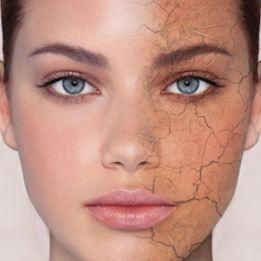Dry-Skin: (134, 1, 249, 48), (140, 156, 235, 205), (152, 100, 241, 148), (147, 229, 208, 261), (228, 53, 256, 89), (172, 57, 242, 70), (143, 65, 168, 100)
